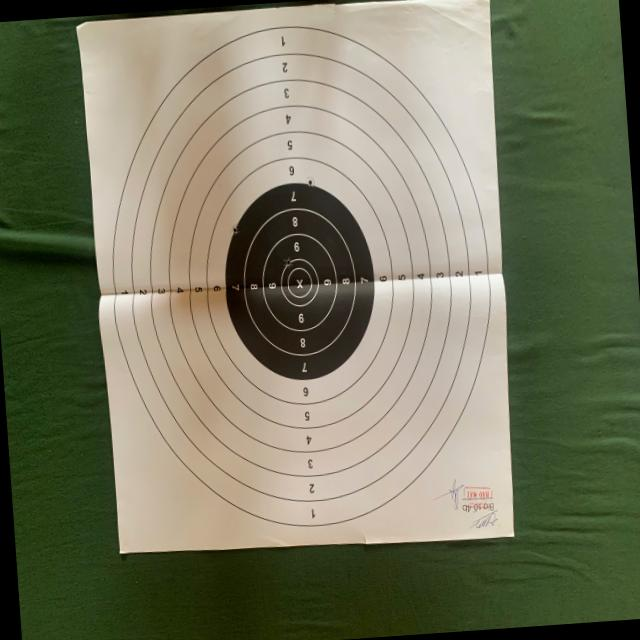bullet: (232, 225, 238, 233), (307, 179, 312, 186), (286, 258, 291, 265)
target: (79, 0, 515, 553)
